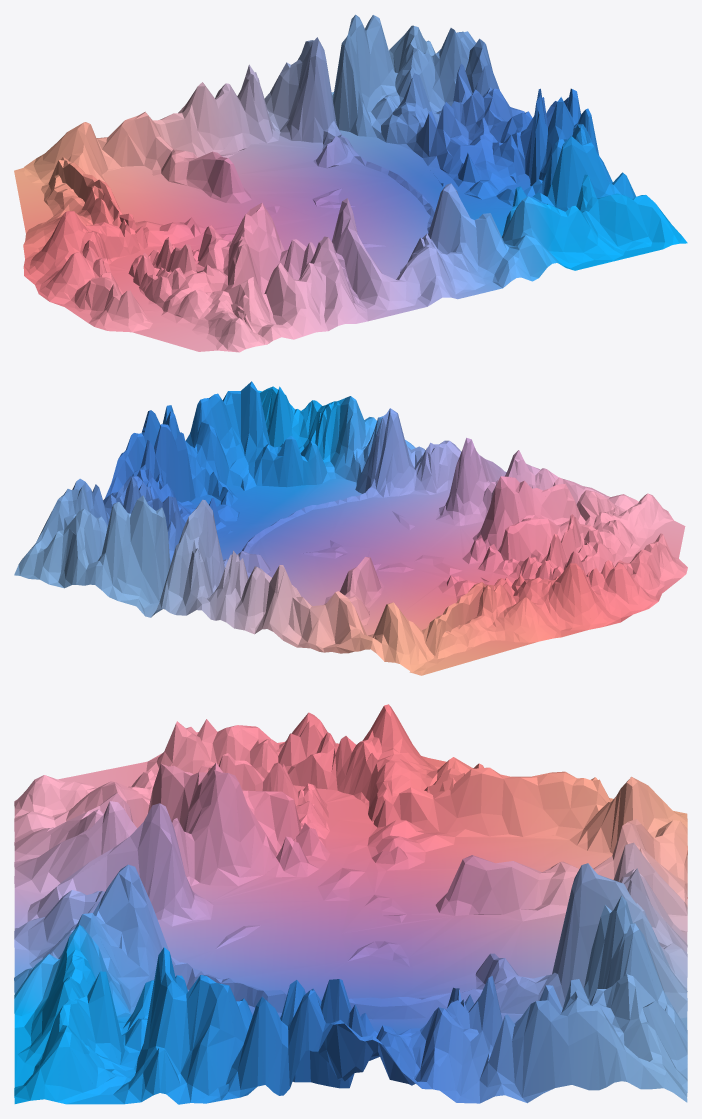
The model's file is ColonyAndExit 1.fbx.
3 views of the same model, one above another, from view 1: azimuth 30°, elevation 25°; view 2: azimuth 150°, elevation 25°; view 3: azimuth 270°, elevation 25° (orthographic). The views are drawn at different scales.
Parts seen in each view (by area): view 1: ColonyExit1_5; view 2: ColonyExit1_5; view 3: ColonyExit1_5.
Part boxes in pixels (left/top/right/bottom): ColonyExit1_5: left=14, top=14, right=687, bottom=352; ColonyExit1_5: left=14, top=381, right=687, bottom=675; ColonyExit1_5: left=14, top=704, right=687, bottom=1104.
Size of the model in its own units: 12821 by 2377 by 10017.
1 material, 1 textured.
